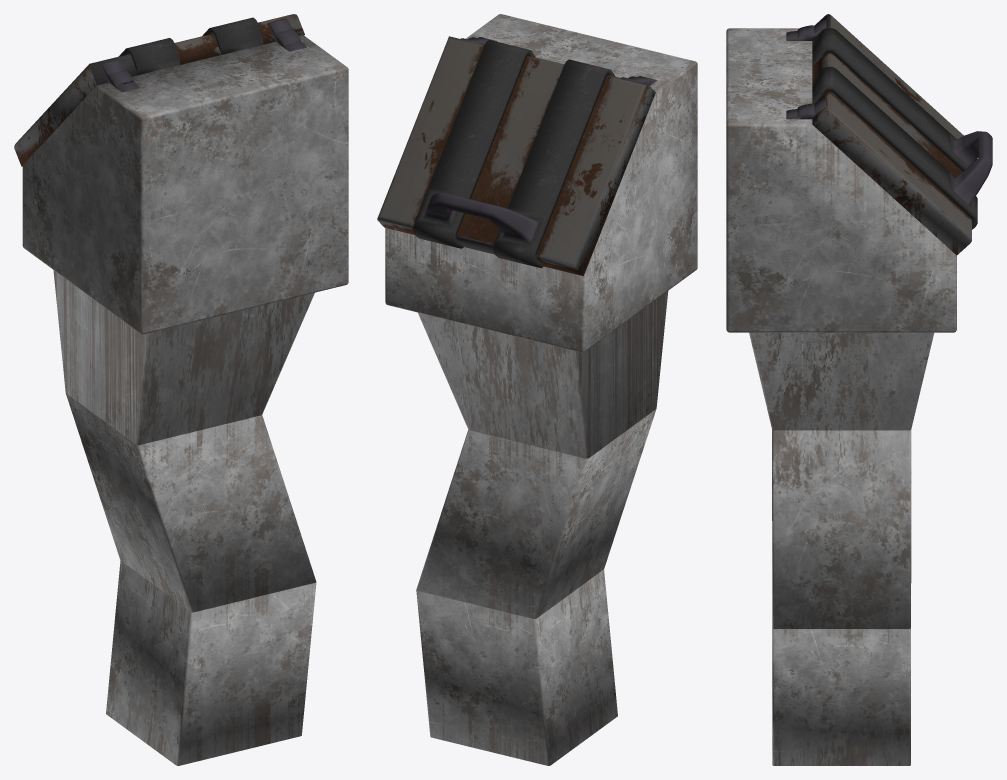
Rendered from Trash Schute_Textured 2.fbx.
The picture shows the model from 3 angles, left to right: view 1: azimuth 30°, elevation 25°; view 2: azimuth 150°, elevation 25°; view 3: azimuth 270°, elevation 25°; orthographic projection. The views are drawn at different scales.
Parts seen in each view (by area): view 1: Cube.004, Cube.005, Cube.006; view 2: Cube.004, Cube.005; view 3: Cube.004, Cube.005, Cube.006.
Part boxes in pixels (x1,y1,x2,y2): Cube.004: [22, 35, 348, 765]; Cube.005: [14, 14, 304, 166]; Cube.006: [101, 19, 306, 92]; Cube.004: [385, 14, 697, 765]; Cube.005: [377, 36, 655, 275]; Cube.004: [726, 28, 956, 765]; Cube.005: [812, 14, 992, 255]; Cube.006: [786, 20, 826, 119].
Size of the model in its own units: 40 by 129 by 46.18.
